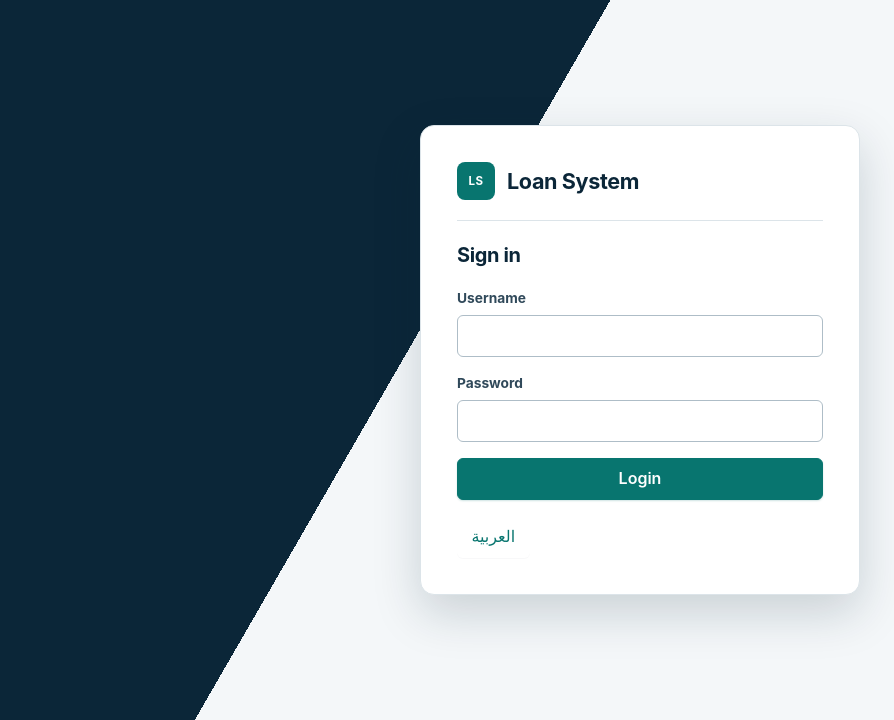
identity UI › switches Arabic RTL
The width and height of the screenshot is (894, 720).
Click the button "العربية" at (493, 536), box [457, 516, 530, 558]
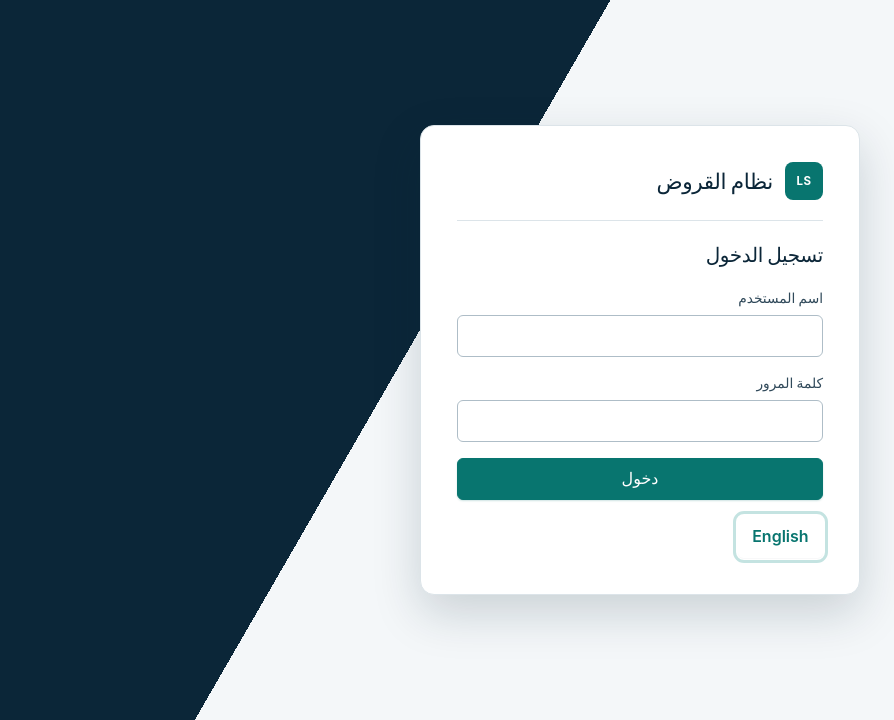
Expected: the heading "تسجيل الدخول" is shown, [706, 243, 823, 267]
